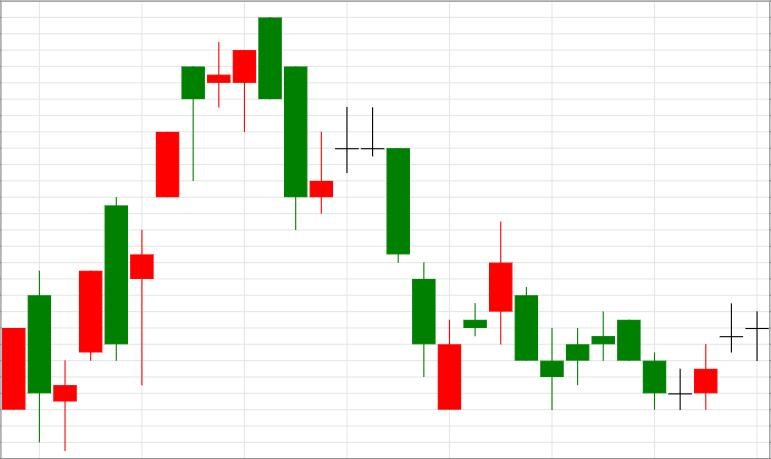hanging_man_fall: (54, 42, 256, 450), (54, 66, 204, 450)
